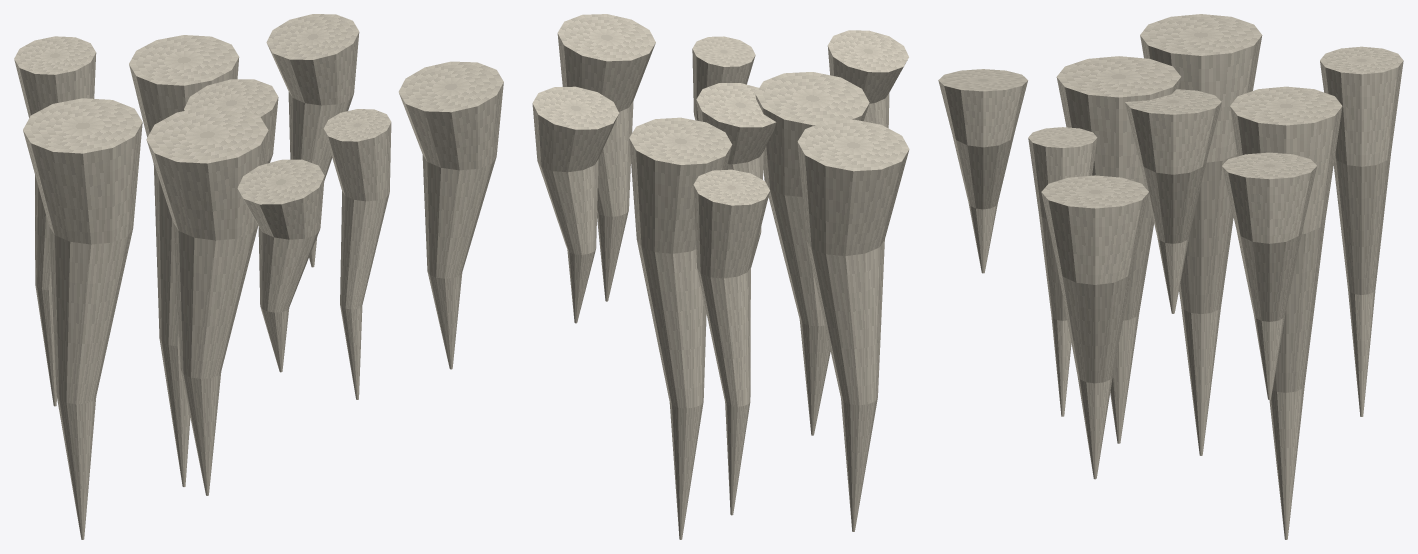
File: cave-and-crystal-networks-stalactite-3-f4d6a1d2.glb
The picture shows the model from 3 angles, left to right: view 1: azimuth 30°, elevation 25°; view 2: azimuth 150°, elevation 25°; view 3: azimuth 270°, elevation 25°; orthographic projection. The views are drawn at different scales.
Parts seen in each view (by area): view 1: stalactite-3; view 2: stalactite-3; view 3: stalactite-3.
Part boxes in pixels (bbox=[...]): stalactite-3: bbox=[14, 14, 503, 539]; stalactite-3: bbox=[532, 14, 909, 539]; stalactite-3: bbox=[938, 14, 1403, 539].
Size of the model in its own units: 1.96 by 1.96 by 1.88.
Materials: 1 (1 with a texture image).
